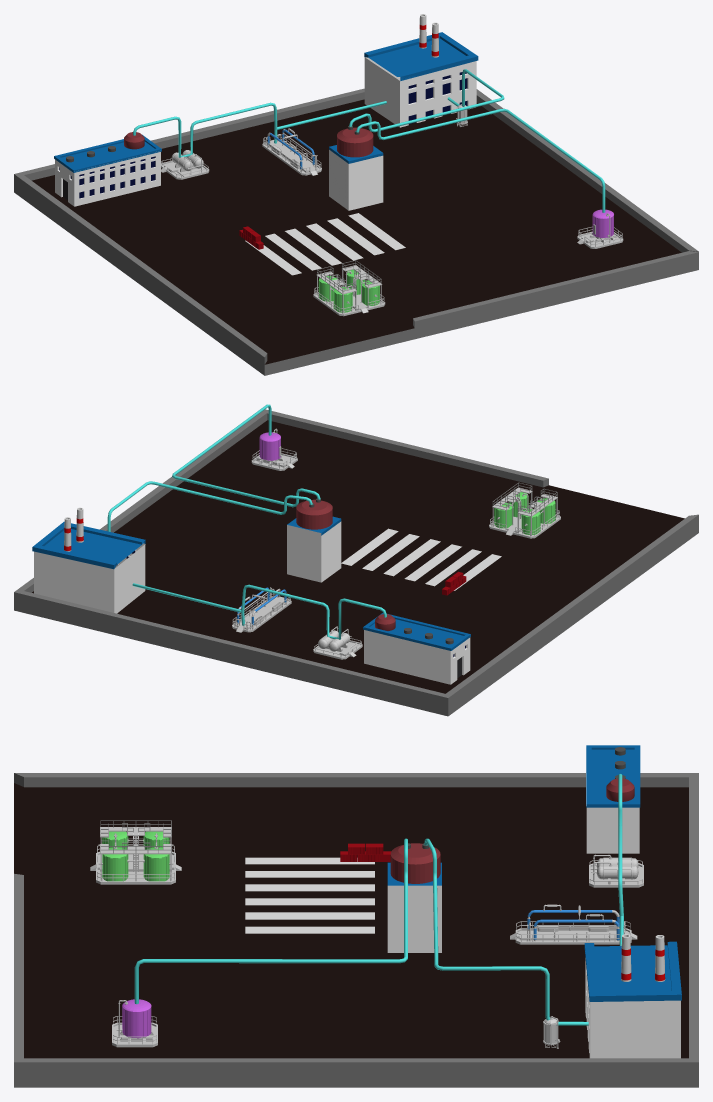
The model's file is facility.glb.
3 views of the same model, one above another, from view 1: azimuth 30°, elevation 25°; view 2: azimuth 150°, elevation 25°; view 3: azimuth 270°, elevation 25° (orthographic). The views are drawn at different scales.
Visible parts, largest first — view 1: Cube.001, Building.001, Building, Plane.001, Cube, Roof1.001, Fuel_tank_4__Cube.008, Roof1, _Pipe__Cube.005, Fuel_tank_3__Cube.039, Cylinder.010, Fuel_tank_2__Cube.037; view 2: Cube.001, Building.001, Building, Plane.001, Cube, Roof1.001, Fuel_tank_4__Cube.008, Roof1, _Pipe__Cube.005, Fuel_tank_3__Cube.039, Fuel_tank_2__Cube.037, Cylinder.010; view 3: Cube.001, Building.001, Fuel_tank_4__Cube.008, Roof1.001, Plane.001, Cube, _Pipe__Cube.005, Roof1, Building, Fuel_tank_3__Cube.039, Fuel_tank_2__Cube.037, Cylinder.010.
Boxes of the visible parts, x1,y1,x2,y2 form: Cube.001: [14, 88, 698, 375]; Building.001: [364, 57, 476, 127]; Building: [55, 152, 160, 206]; Plane.001: [133, 69, 605, 212]; Cube: [329, 145, 383, 210]; Roof1.001: [364, 32, 478, 80]; Fuel_tank_4__Cube.008: [313, 260, 385, 316]; Roof1: [54, 134, 161, 172]; _Pipe__Cube.005: [262, 128, 321, 175]; Fuel_tank_3__Cube.039: [577, 209, 623, 248]; Cylinder.010: [337, 127, 373, 157]; Fuel_tank_2__Cube.037: [161, 150, 209, 179]; Cube.001: [14, 409, 698, 716]; Building.001: [34, 543, 145, 613]; Building: [364, 630, 470, 684]; Plane.001: [107, 404, 386, 639]; Cube: [287, 516, 341, 582]; Roof1.001: [32, 521, 145, 569]; Fuel_tank_4__Cube.008: [489, 482, 560, 538]; Roof1: [363, 613, 470, 650]; _Pipe__Cube.005: [232, 587, 291, 632]; Fuel_tank_3__Cube.039: [251, 428, 297, 470]; Fuel_tank_2__Cube.037: [313, 626, 362, 659]; Cylinder.010: [296, 499, 332, 529]; Cube.001: [14, 773, 698, 1087]; Building.001: [585, 958, 680, 1058]; Fuel_tank_4__Cube.008: [90, 820, 181, 884]; Roof1.001: [584, 941, 681, 1001]; Plane.001: [134, 773, 623, 1025]; Cube: [387, 862, 441, 952]; _Pipe__Cube.005: [510, 904, 637, 944]; Roof1: [586, 745, 640, 807]; Building: [586, 747, 639, 853]; Fuel_tank_3__Cube.039: [112, 999, 157, 1047]; Fuel_tank_2__Cube.037: [589, 854, 643, 887]; Cylinder.010: [390, 843, 440, 883].
Size of the model in its own units: 33.13 by 6.86 by 33.13.
